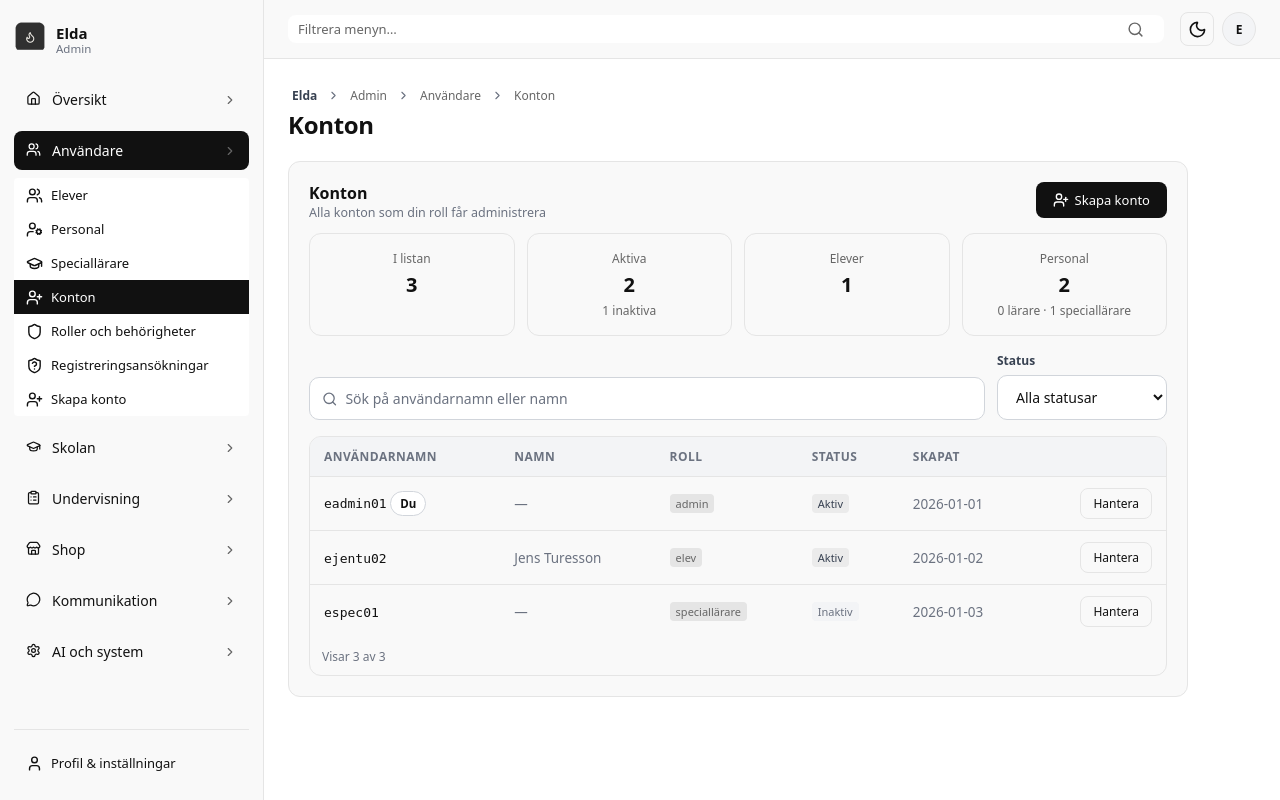
Test: kontolistan › filtrerar på status
Expected: the table is shown, [310,437,1166,675]
Select "Inaktiva" in the dropdown named "Filtrera på status" at {"x": 1082, "y": 398}, box [997,375,1167,420]
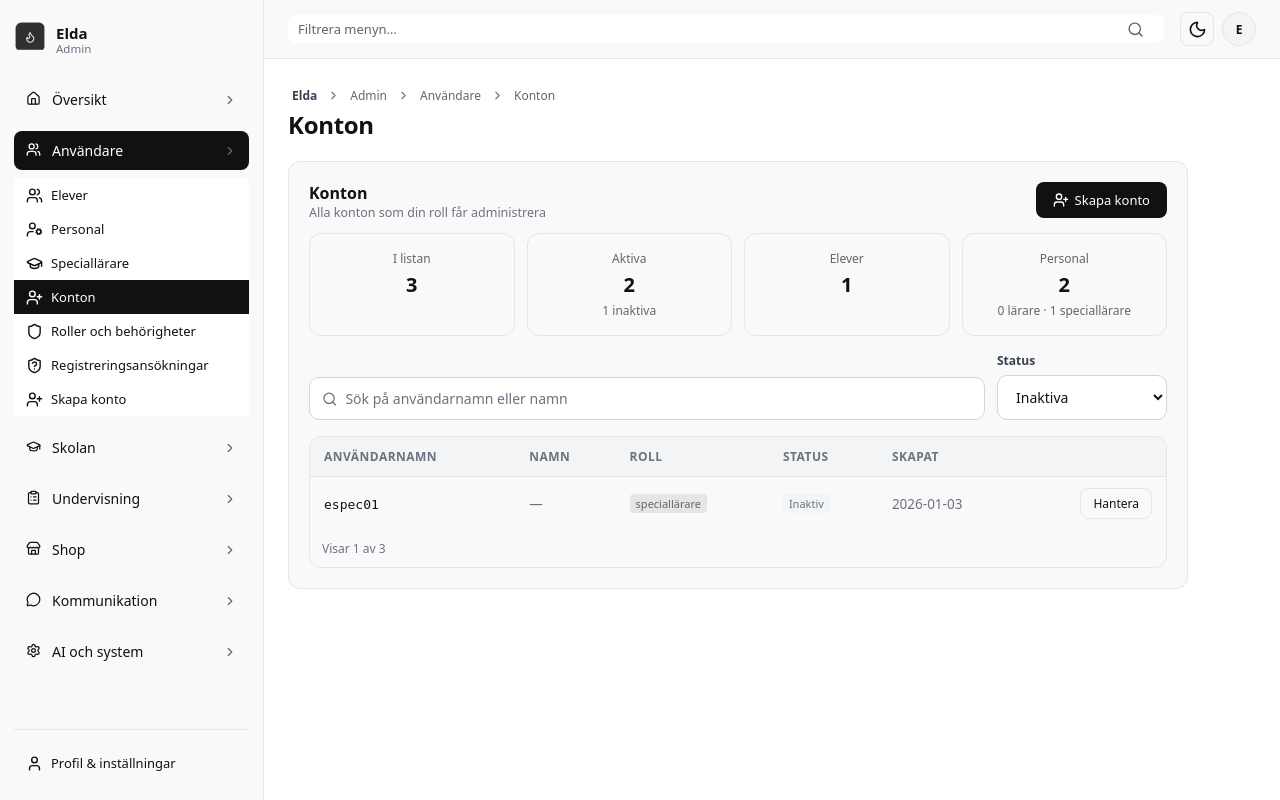
Expected: the text "espec01" is shown, [324,496,379,512]
Expected: the text "ejentu02" is gone
